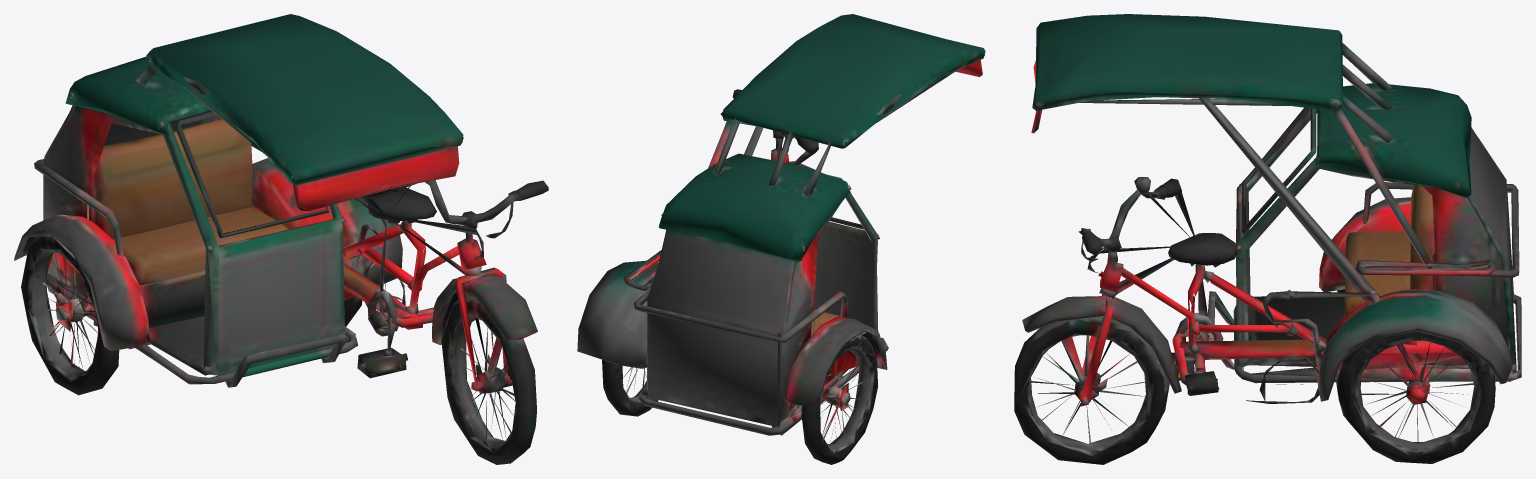
Rendered from pedicab.glb.
The picture shows the model from 3 angles, left to right: view 1: azimuth 30°, elevation 25°; view 2: azimuth 150°, elevation 25°; view 3: azimuth 270°, elevation 25°; orthographic projection. The views are drawn at different scales.
Visible parts, largest first — view 1: Mesh0; view 2: Mesh0; view 3: Mesh0.
Part boxes in pixels (x1,y1,x2,y2): Mesh0: (14, 14, 548, 464); Mesh0: (577, 14, 985, 464); Mesh0: (1014, 14, 1521, 464).
Bounding box in the file's own units: 0.6818 × 0.7796 × 1.
1 material, 1 textured.
